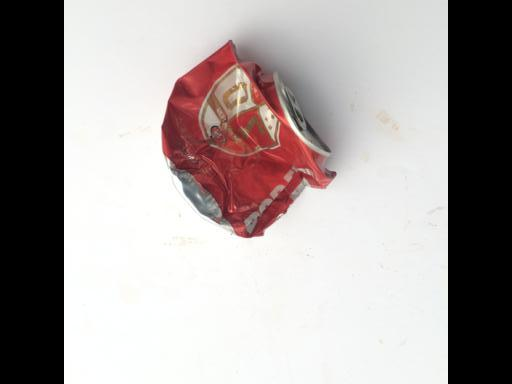paper: (161, 41, 337, 239)
